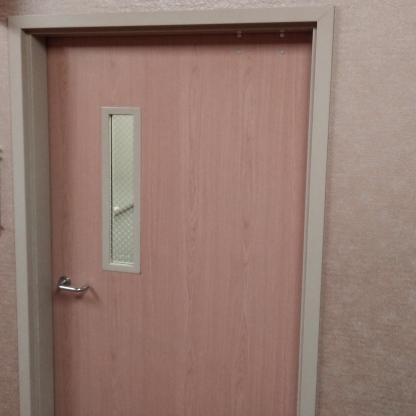door: (50, 32, 300, 416)
lever: (53, 282, 92, 294)
